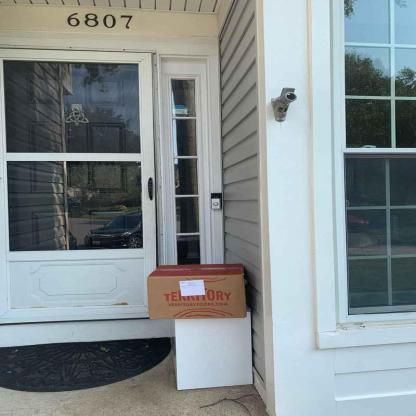label: (180, 280, 205, 296)
package: (148, 262, 247, 319)
